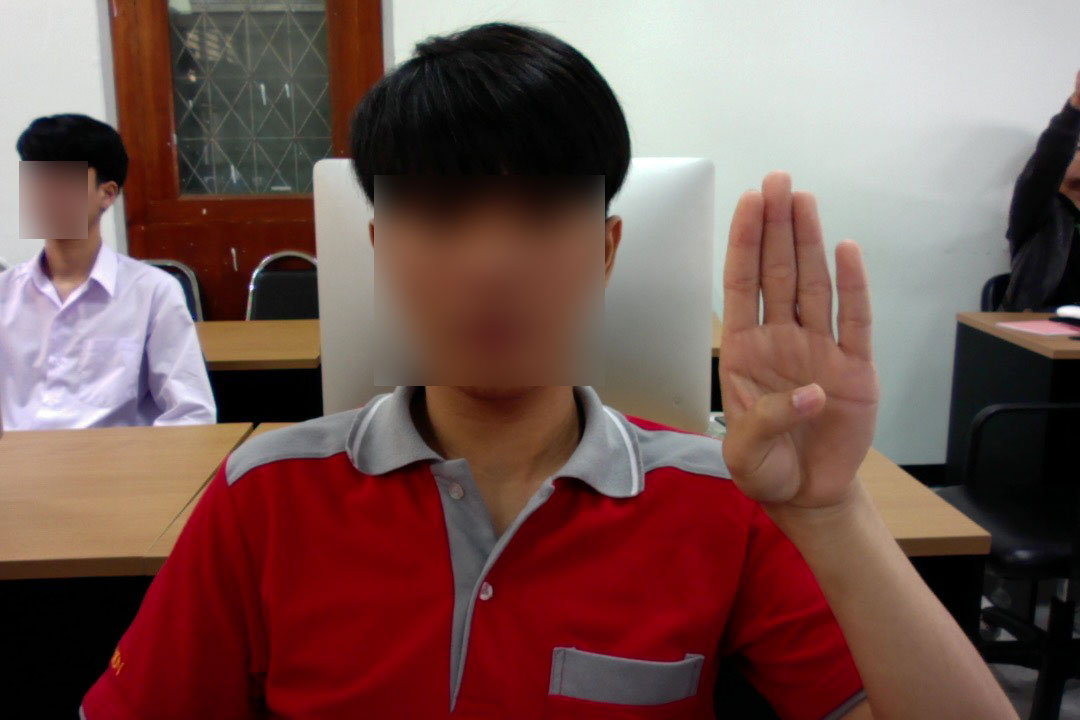bor: (710, 165, 886, 530)
